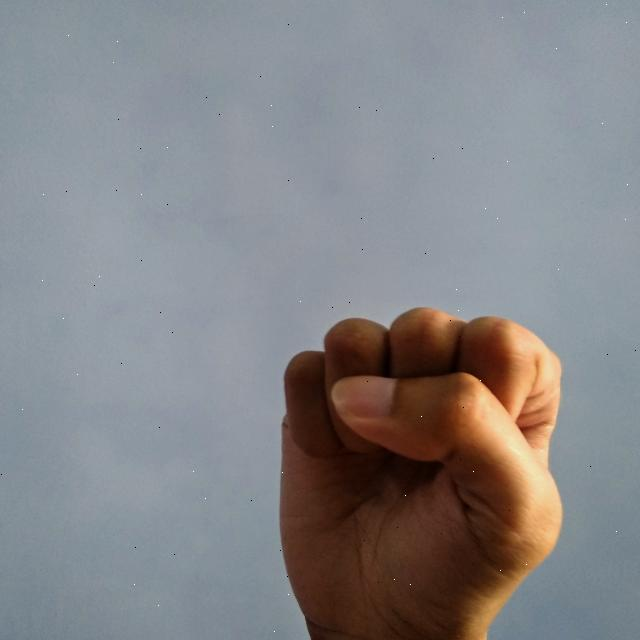S: (269, 292, 567, 640)
